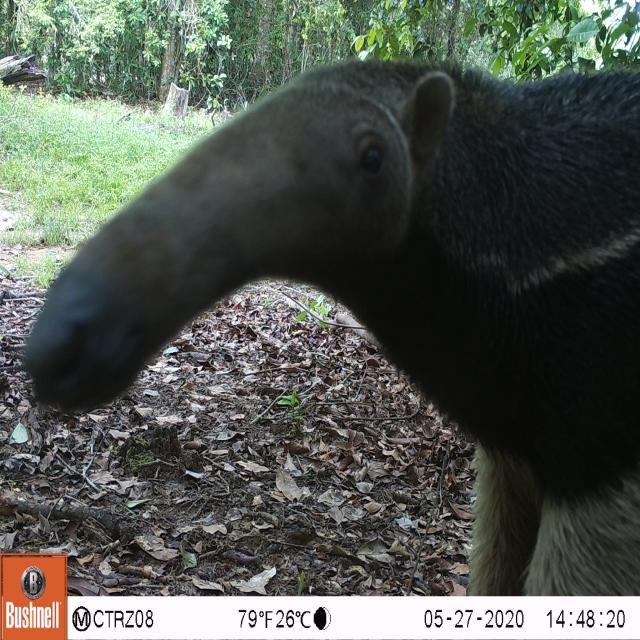Giant Anteater: (21, 38, 640, 591)
